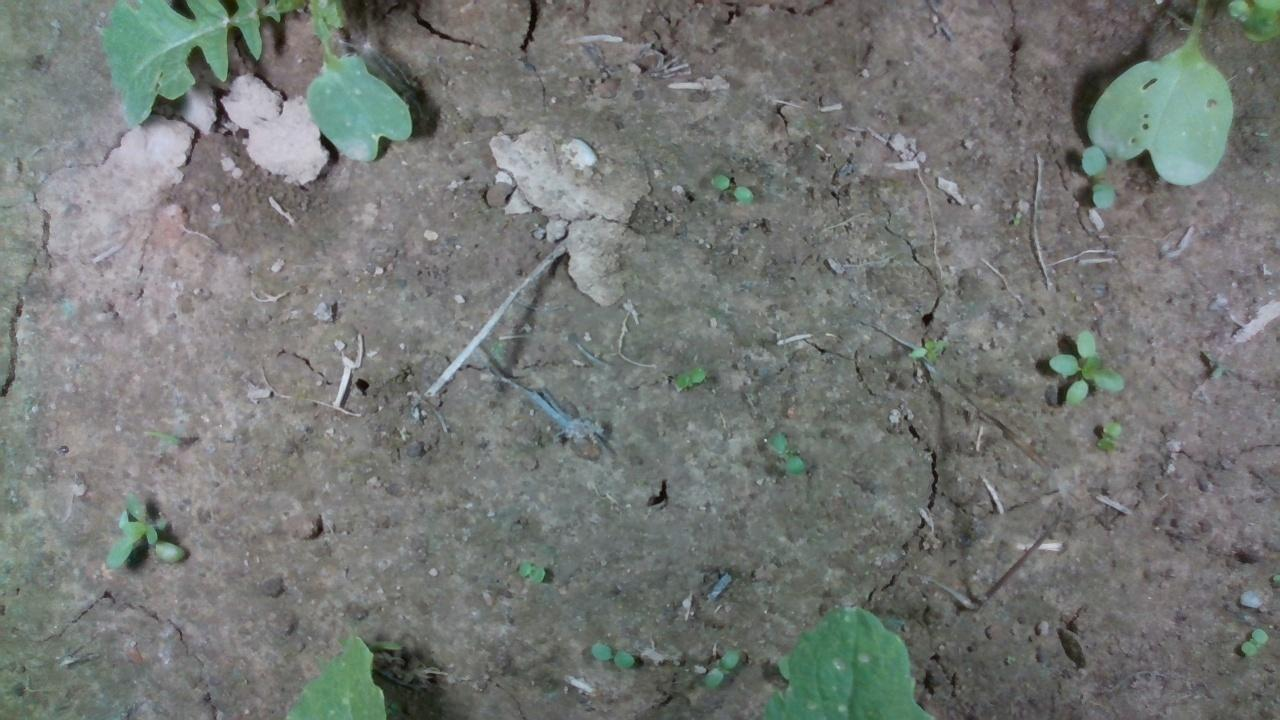weed: (1045, 327, 1126, 407), (765, 427, 805, 475), (701, 647, 739, 689), (708, 171, 754, 205), (588, 641, 634, 669), (1238, 626, 1268, 656), (1094, 419, 1122, 451), (672, 368, 705, 390), (514, 560, 545, 583), (1012, 209, 1020, 225)
